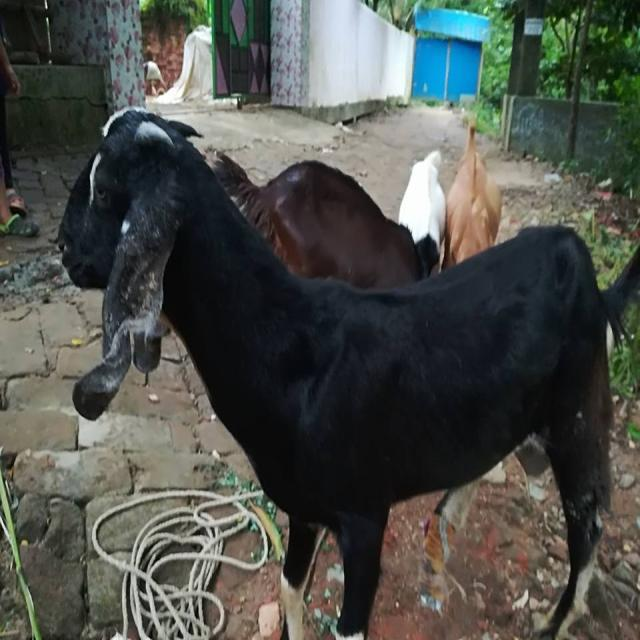Goat: (55, 104, 637, 638), (212, 149, 440, 290), (442, 119, 502, 270)
